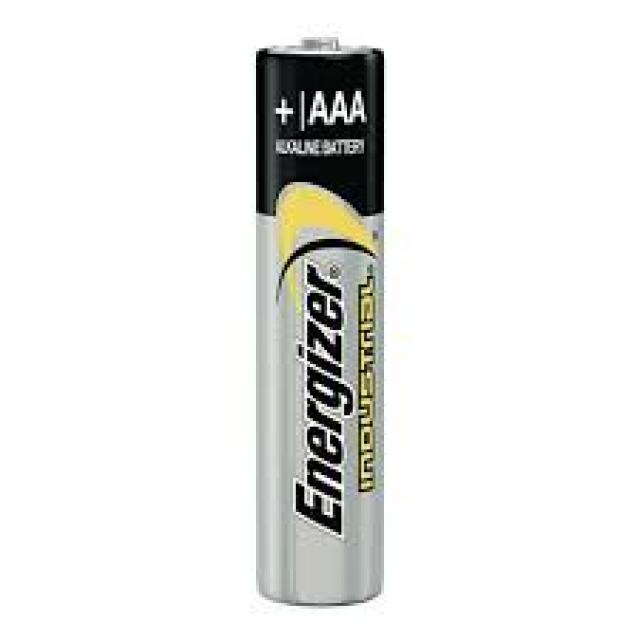Battery: (231, 39, 389, 616)
